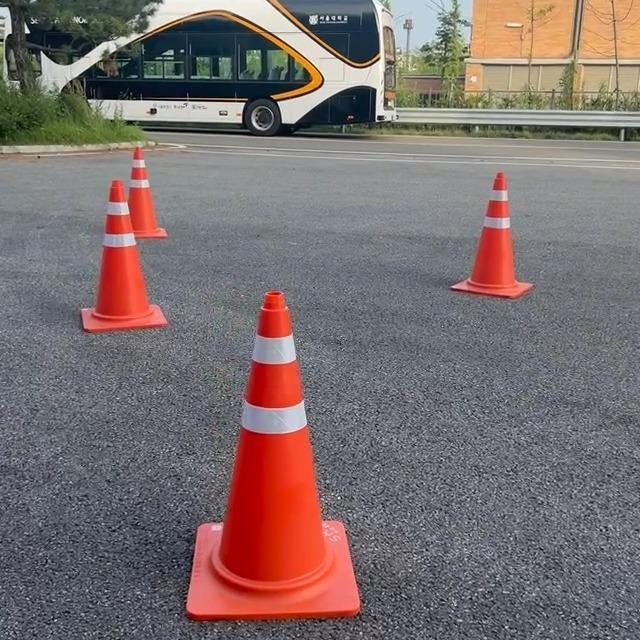fallen_object: (163, 250, 379, 640), (432, 142, 560, 347), (85, 177, 156, 365), (93, 125, 193, 253)
